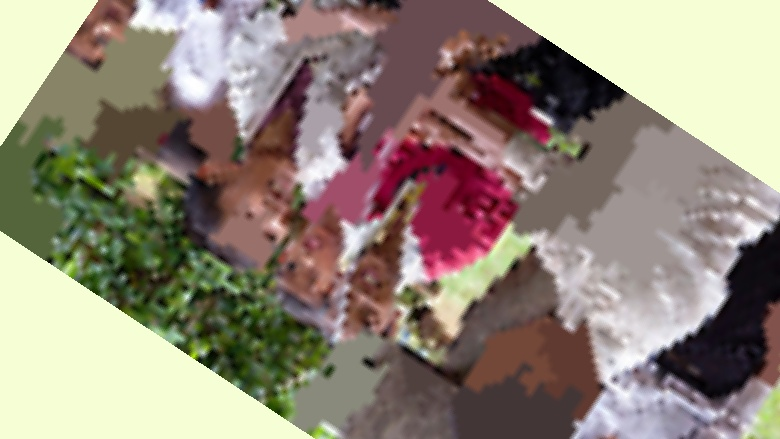washing hand: (210, 0, 619, 438)
